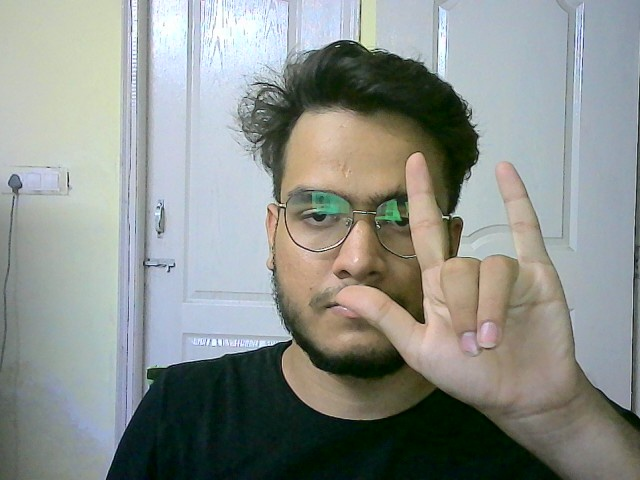I Love You: (361, 146, 587, 420)
